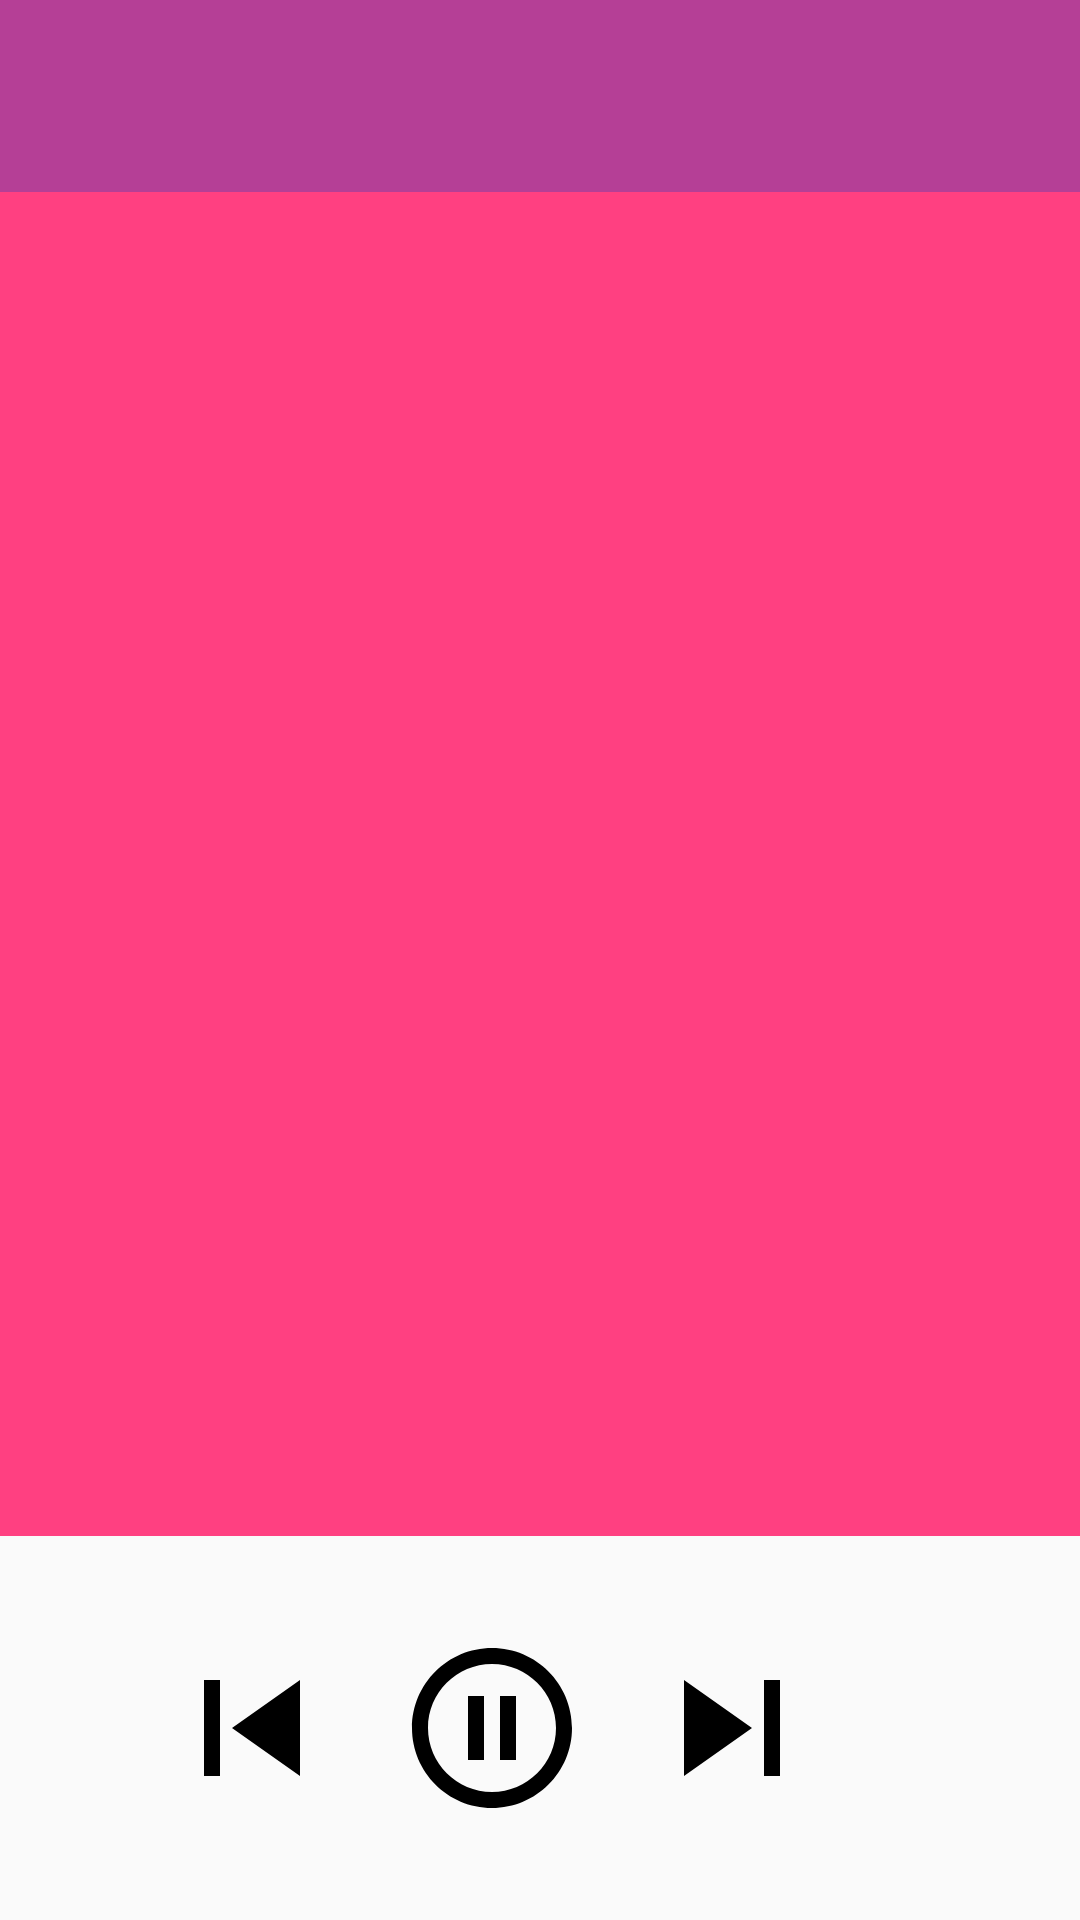

Locate icon controls on the screen. Image size 1080w x 1920h, boxes as (x1, y1, x2, y2).
pause circle: (411, 1648, 572, 1808)
skip next: (684, 1680, 780, 1776)
skip previous: (204, 1680, 300, 1776)
